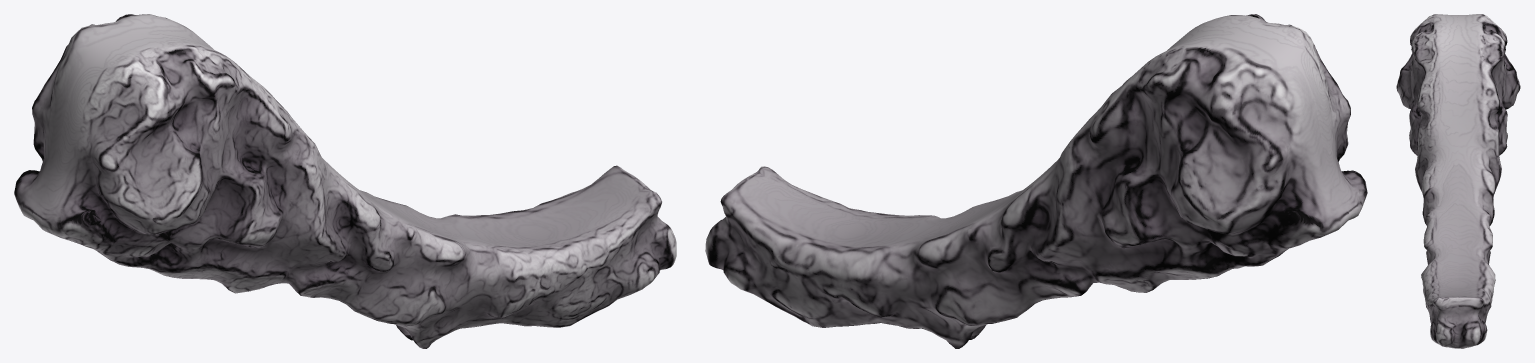
File: Rock_Slide.FBX
3 renders of one model, left to right at view 1: azimuth 30°, elevation 25°; view 2: azimuth 150°, elevation 25°; view 3: azimuth 270°, elevation 25°, orthographic. The views are drawn at different scales.
Visible parts, largest first — view 1: Group1; view 2: Group1; view 3: Group1.
Part boxes in pixels (x1,y1,x2,y2): Group1: (14, 14, 676, 348); Group1: (705, 14, 1367, 348); Group1: (1396, 14, 1520, 348).
Size of the model in its own units: 783 by 454 by 245.
